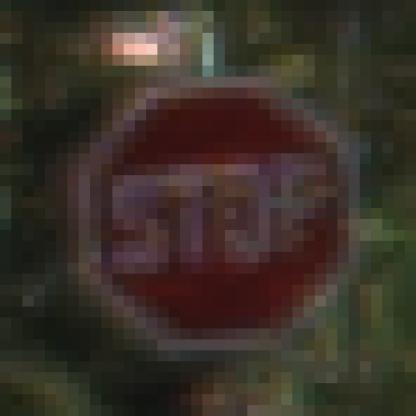stop: (73, 72, 369, 370)
